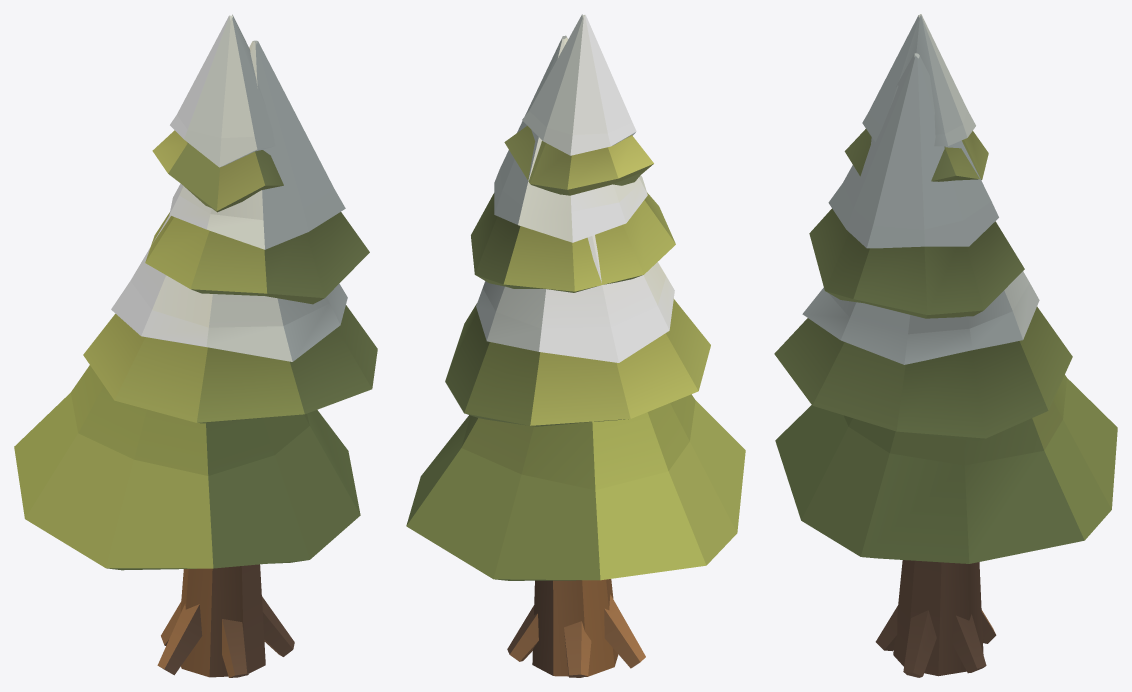
Rendered from forage_4_winter.glb.
The picture shows the model from 3 angles, left to right: view 1: azimuth 30°, elevation 25°; view 2: azimuth 150°, elevation 25°; view 3: azimuth 270°, elevation 25°; orthographic projection. The views are drawn at different scales.
Visible parts, largest first — view 1: Rohstoff 4 · winter; view 2: Rohstoff 4 · winter; view 3: Rohstoff 4 · winter.
Boxes of the visible parts, x1,y1,x2,y2 form: Rohstoff 4 · winter: (14,14,377,677); Rohstoff 4 · winter: (406,14,745,677); Rohstoff 4 · winter: (774,14,1117,677).
Size of the model in its own units: 2.48 by 5.03 by 2.43.
